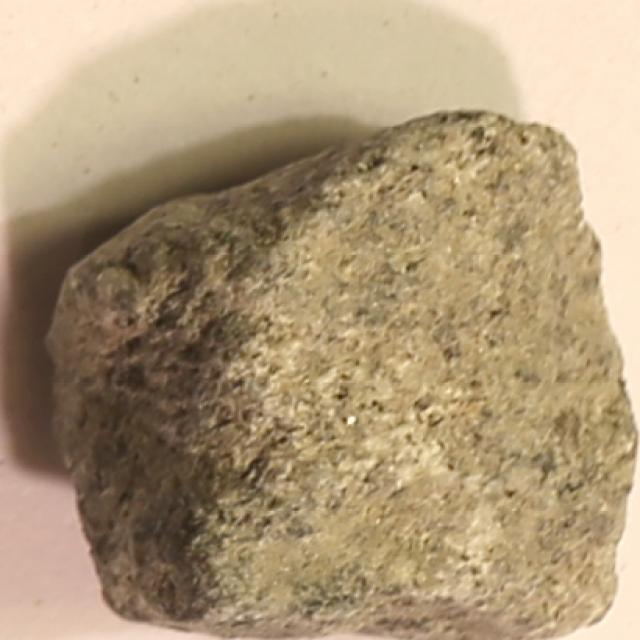stone: (41, 109, 640, 637)
